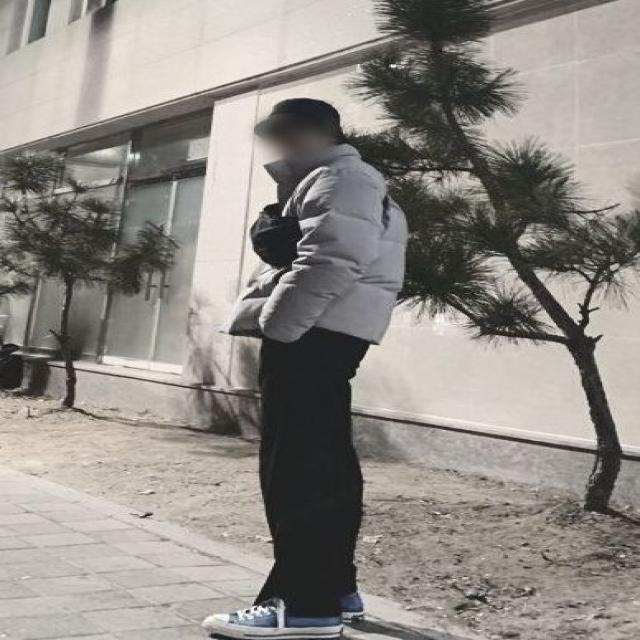padding: (225, 144, 407, 352)
slacks: (246, 316, 370, 612)
